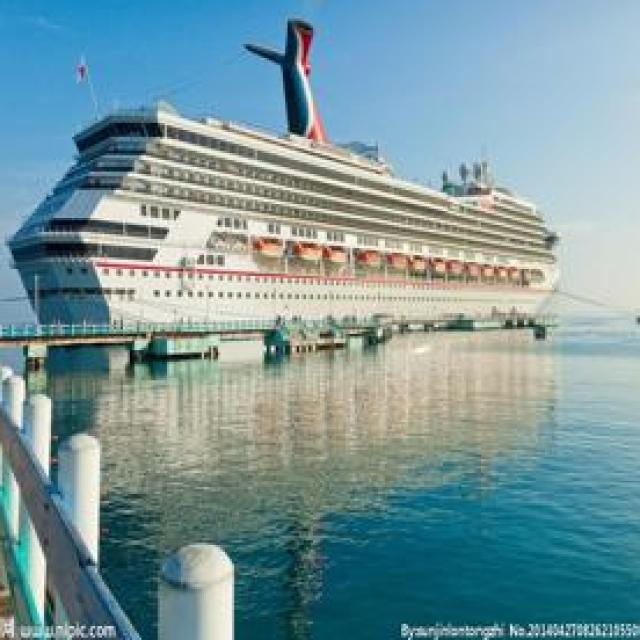passenger ship: (30, 48, 570, 335)
